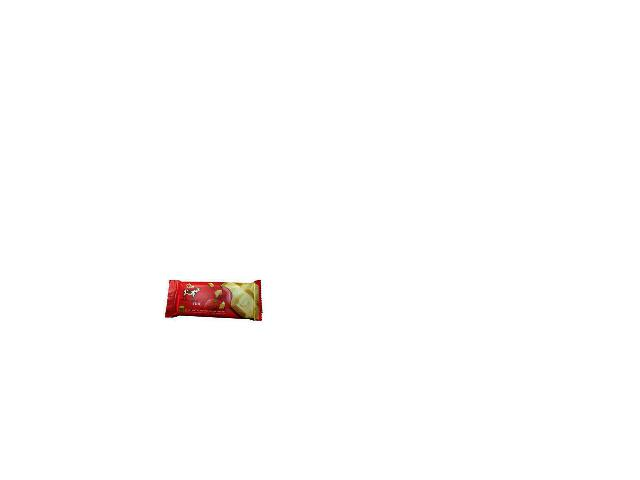chocolate: (158, 277, 262, 327)
